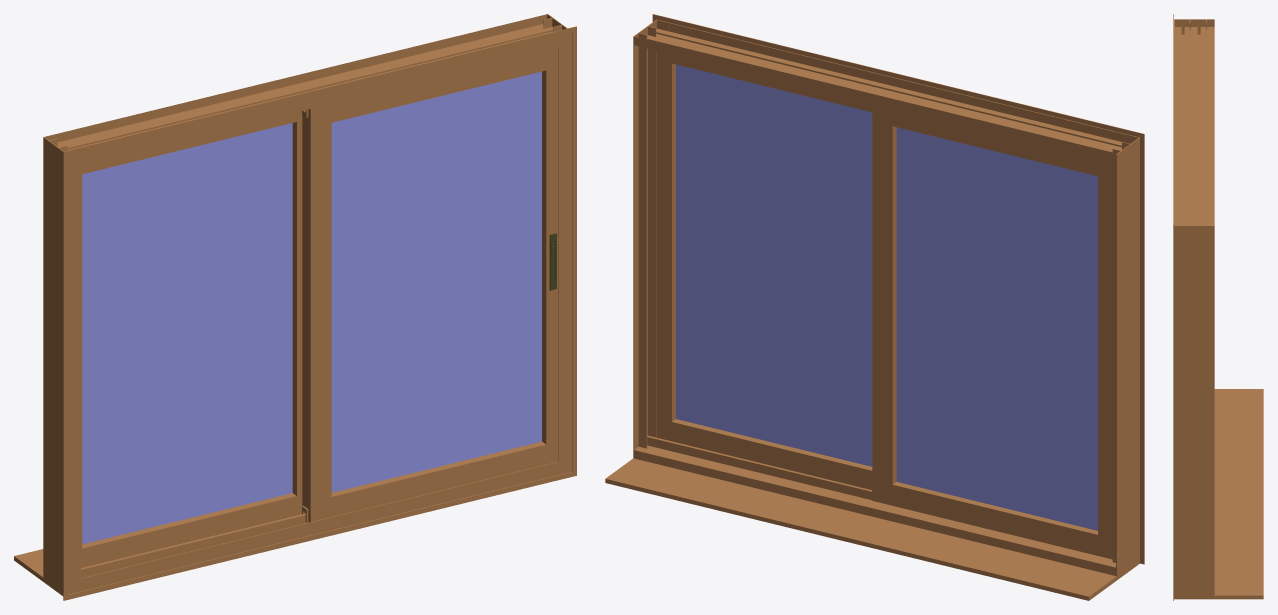
The model's file is window.glb.
3 renders of one model, left to right at view 1: azimuth 30°, elevation 25°; view 2: azimuth 150°, elevation 25°; view 3: azimuth 270°, elevation 25°, orthographic. The views are drawn at different scales.
Parts seen in each view (by area): view 1: Windows; view 2: Windows; view 3: Windows.
Part boxes in pixels (x1=…): Windows: x1=14, y1=14, x2=576, y2=600; Windows: x1=605, y1=14, x2=1144, y2=600; Windows: x1=1173, y1=14, x2=1263, y2=600.
Bounding box in the file's own units: 4.45 × 3.72 × 0.8093.
